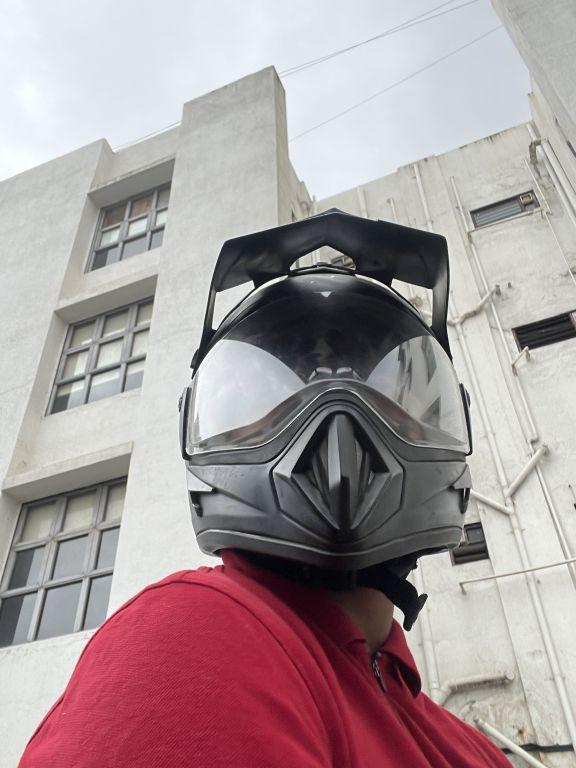helmet: (165, 200, 493, 602)
